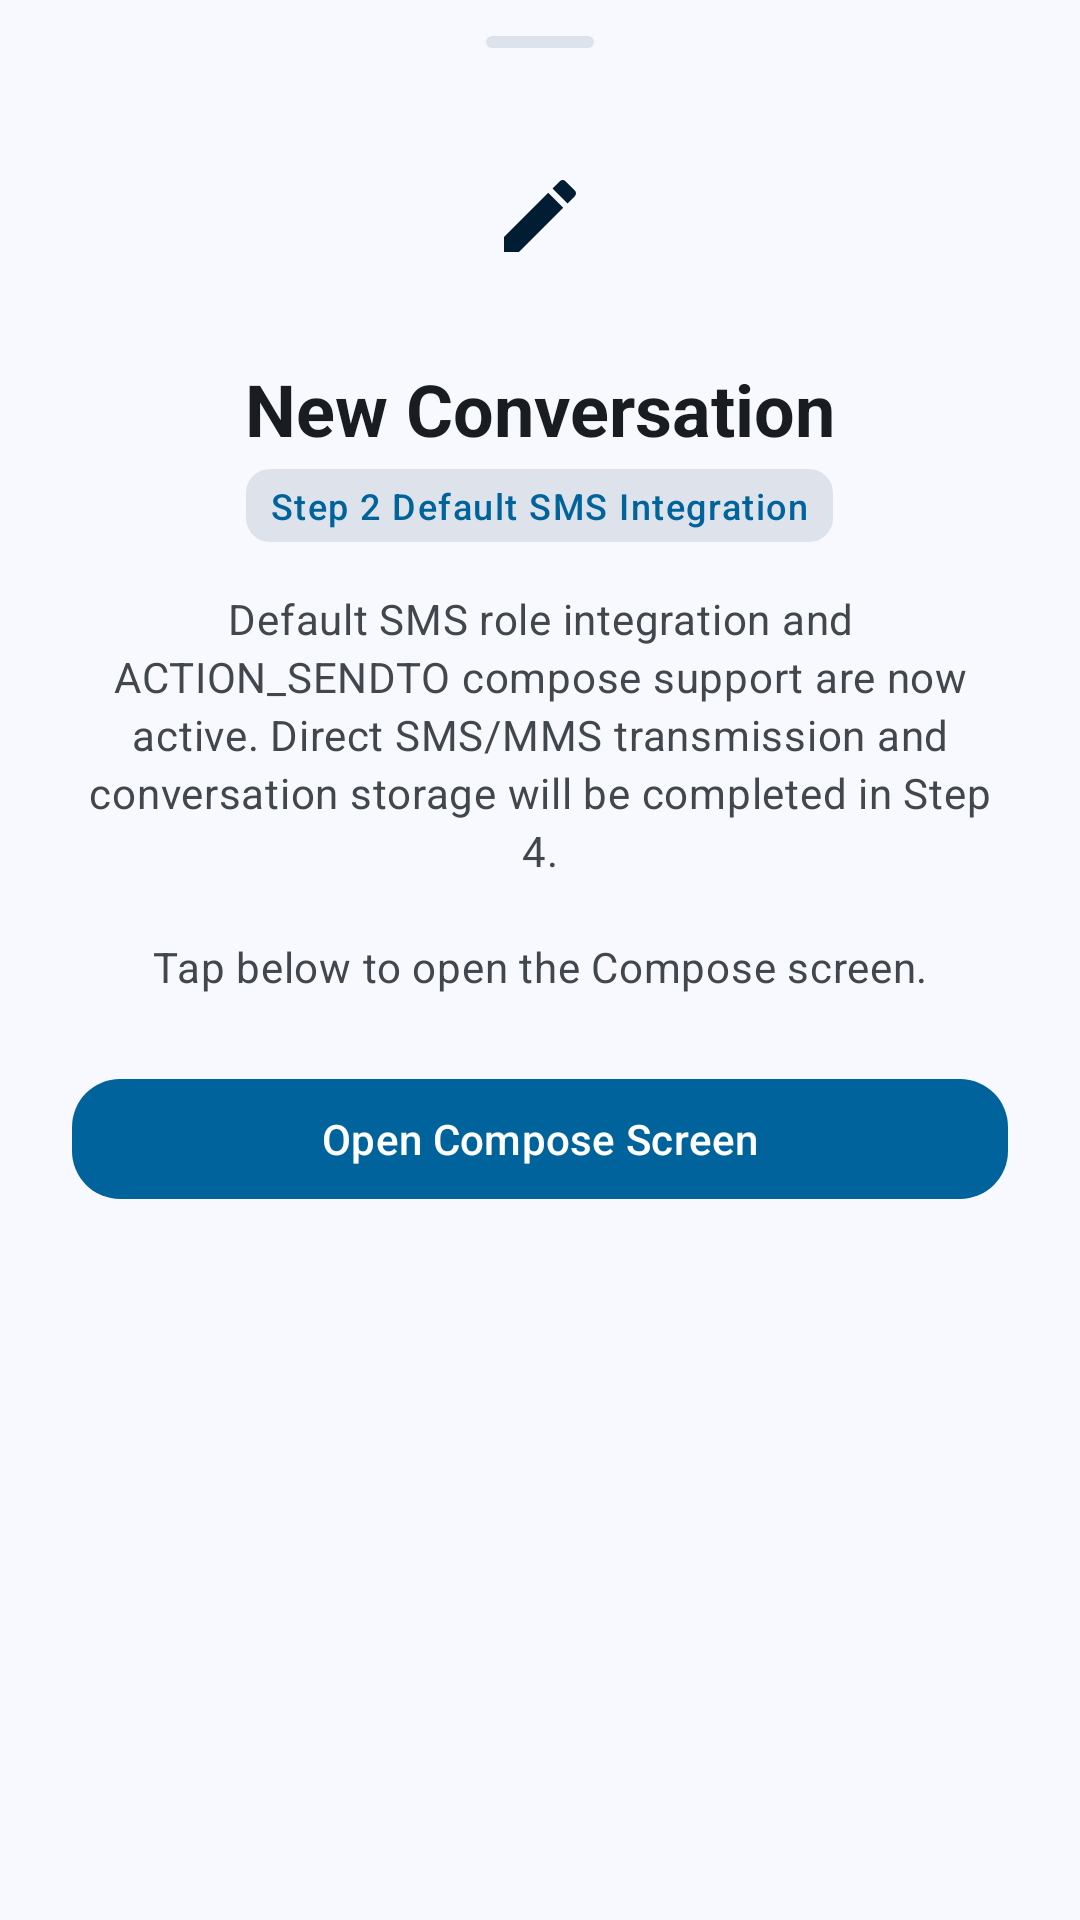

Icons on this 1080 × 1920 Android screen, each with its box as [x1,y1,x2,y2]:
edit: [504,180,576,252]
